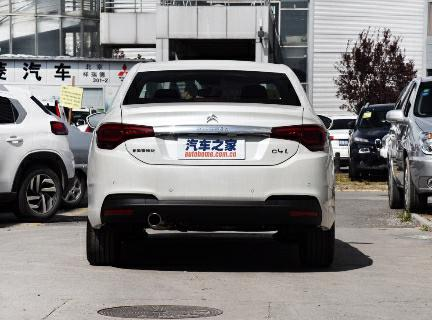雪铁龙-C4L: (86, 54, 343, 267)
